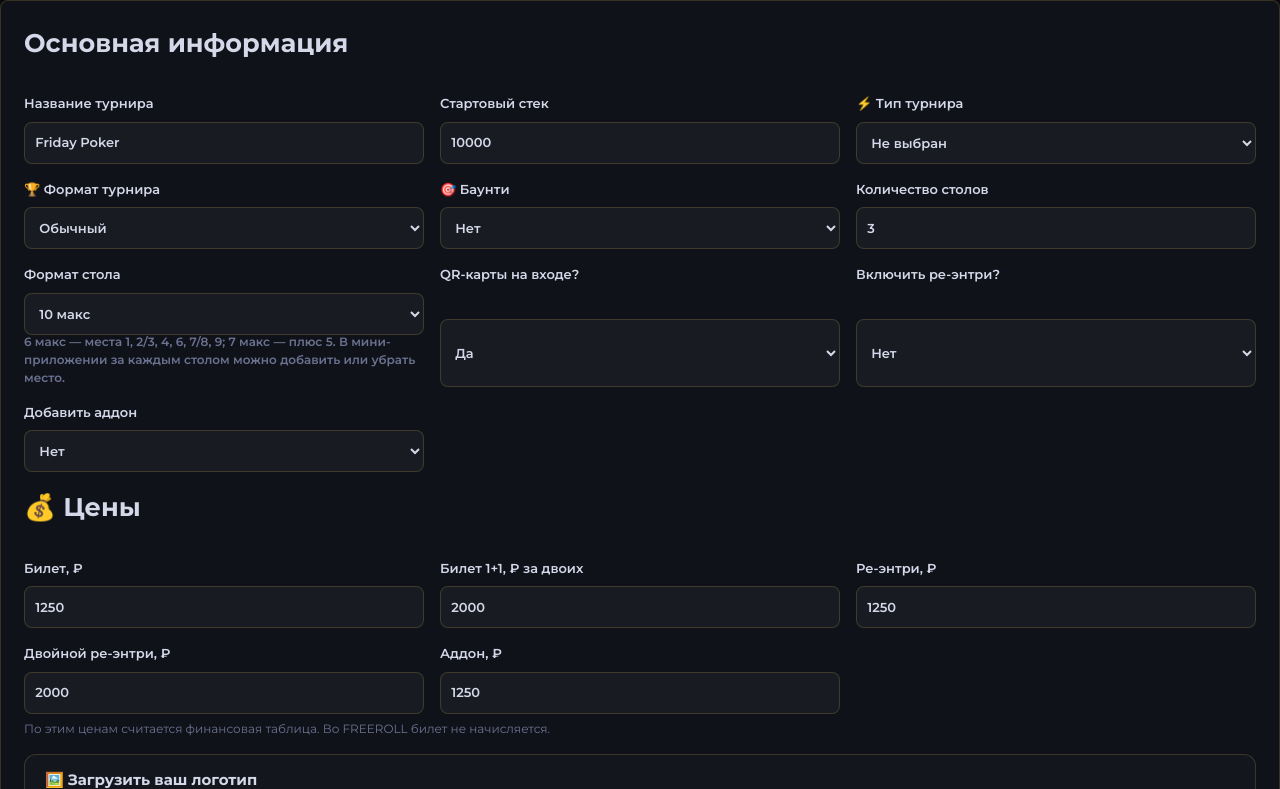
it: re-entry settings UI › puts the bounty type and the starting stack of the picked preset into the form
Select "Прогрессив" in the dropdown labelled "⚡ Тип турнира" at (1056, 143), box 856,122 -> 1256,164
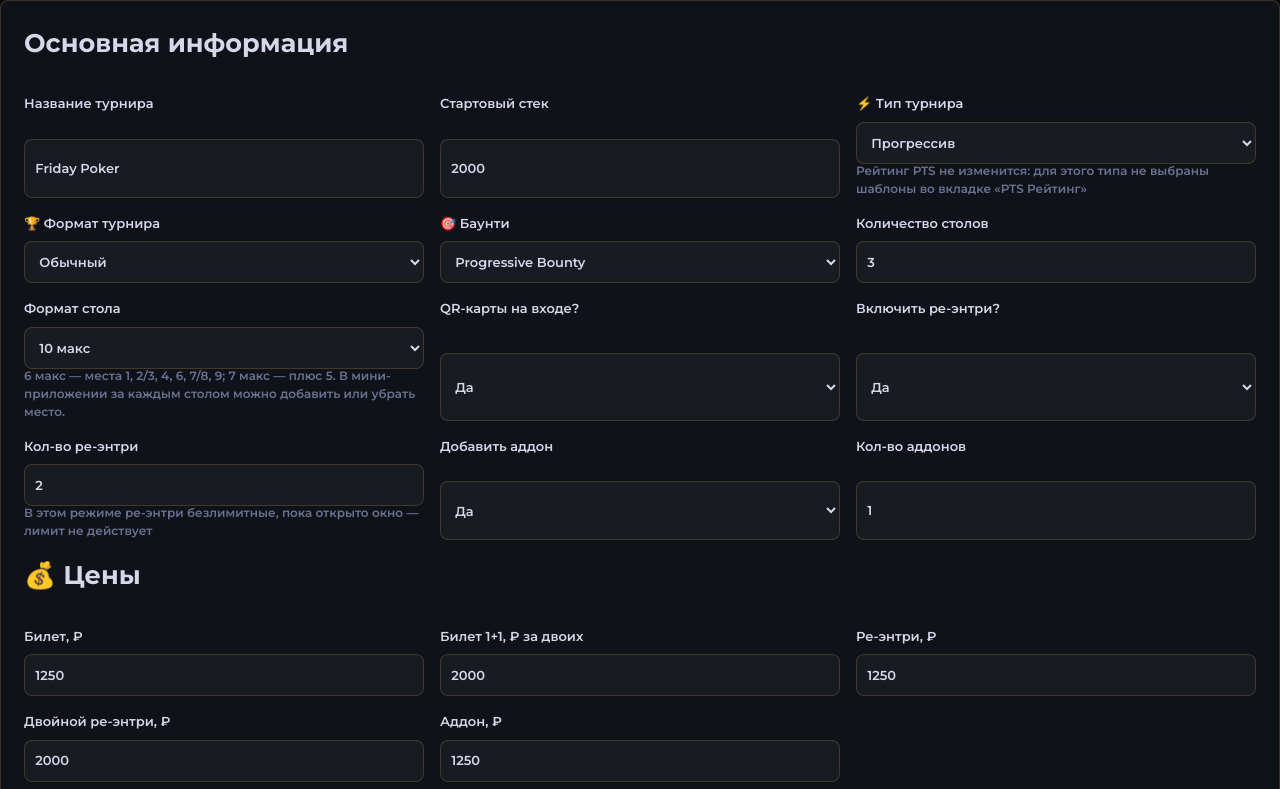
Check: the dropdown named "тип баунти" shows "Progressive Bounty", box 440,241 -> 840,283
Check: the dropdown labelled "Добавить аддон" shows "Да", box 440,481 -> 840,540
Check: the number field named "startingStack" holds "2000", box 440,139 -> 840,198
